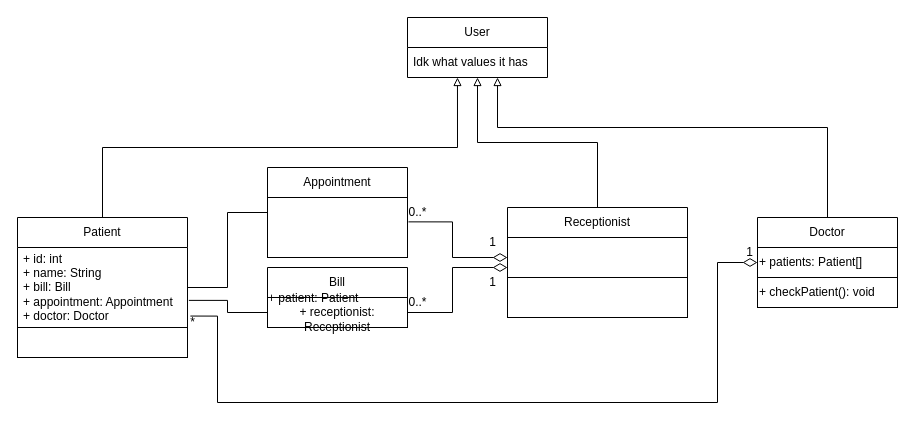
Image size: 915x434. Some labels were removed from this diagram. Here are the shapes that lost their labels. From the top down, the centre of each, then its label:
At (337,227): "+ receptionist: Receptionist + patient: Patient".
At (597,257): "+ appointments: Appointment[] + bills: Bill[]".
At (597,297): "+ giveAppointment(): Appointment + genereateBill(): Bill".
At (102,342): "+ payBill(): void".
